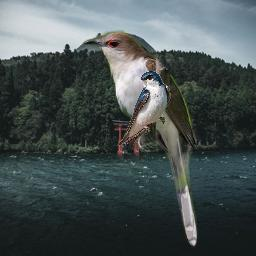Cuckoo: (81, 30, 199, 248)
Swallow: (118, 70, 171, 146)
